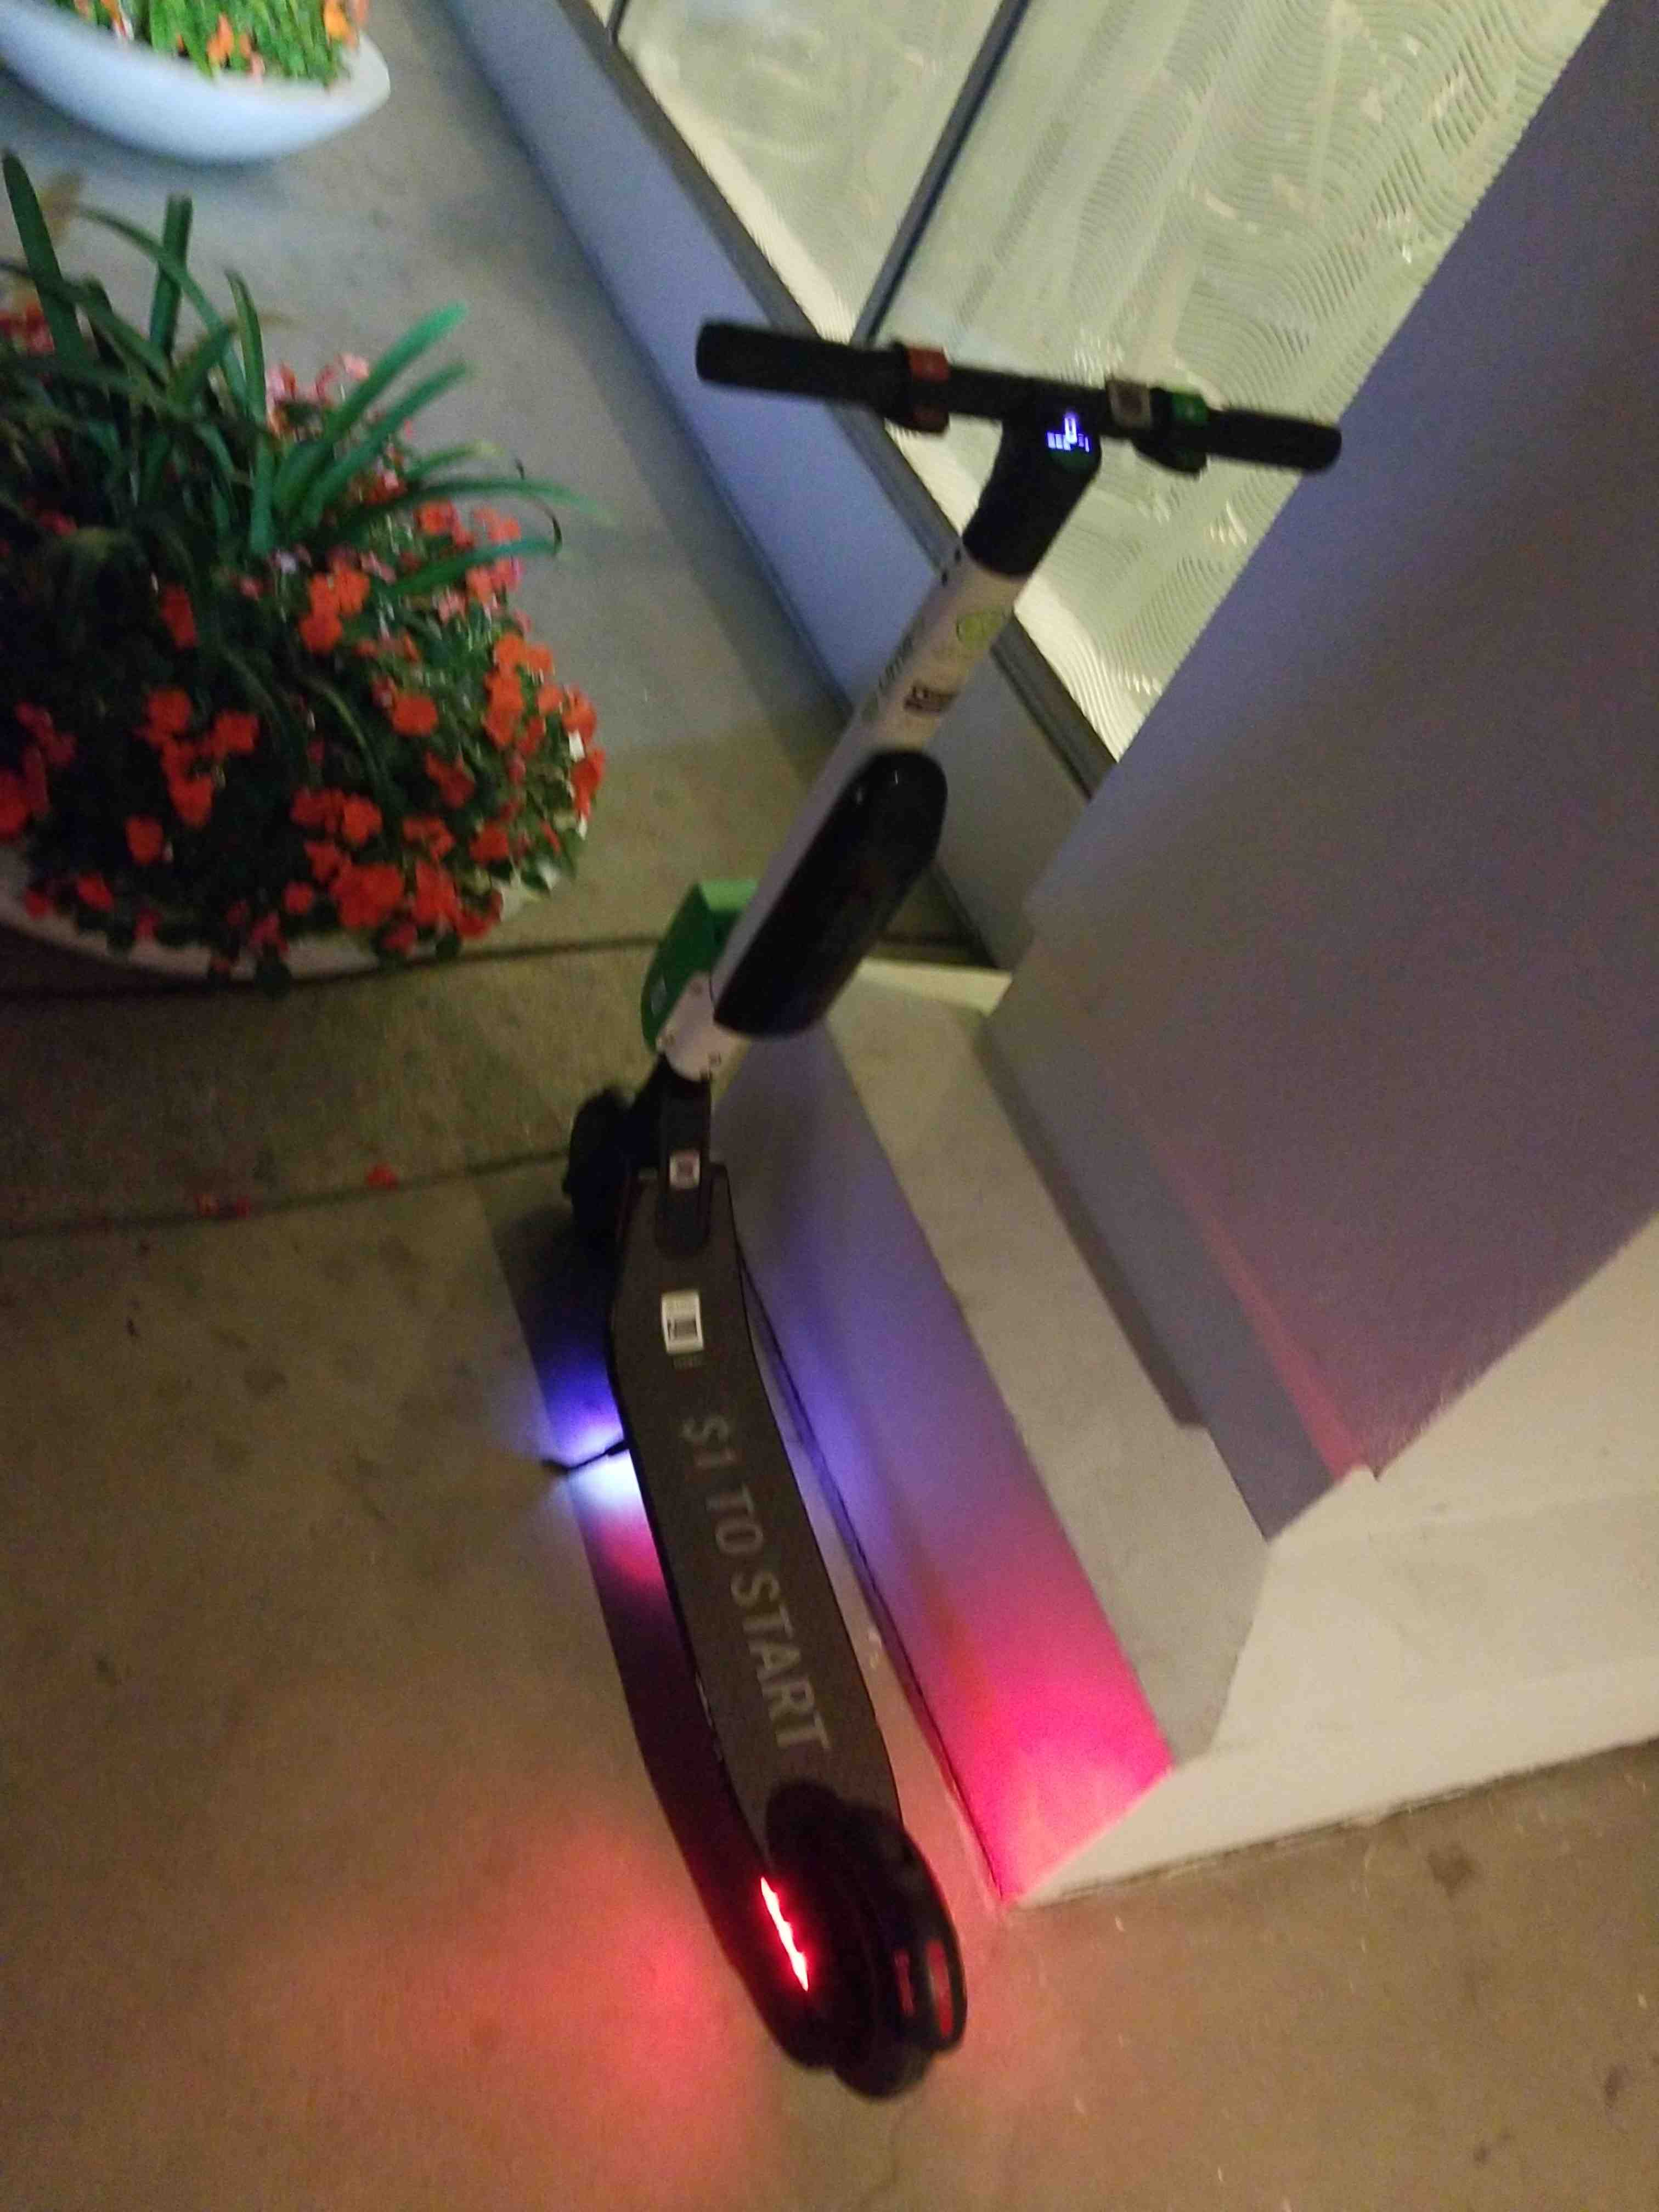scooter: (552, 277, 1382, 2179)
